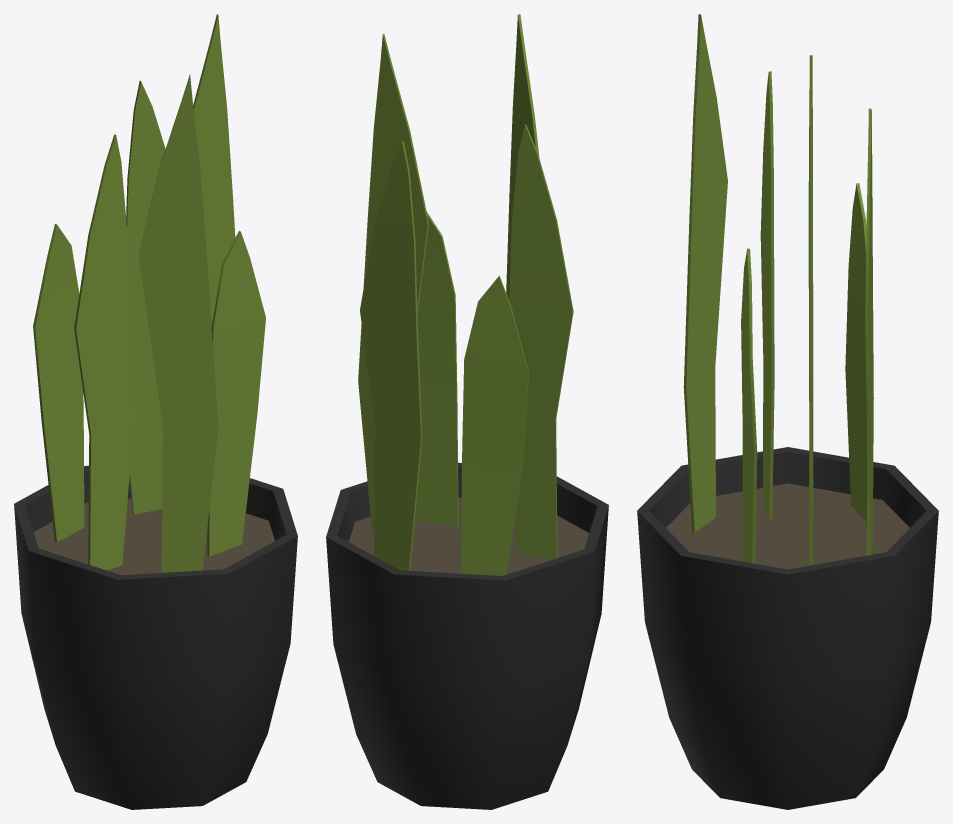
File: Houseplant_4.glb
3 renders of one model, left to right at view 1: azimuth 30°, elevation 25°; view 2: azimuth 150°, elevation 25°; view 3: azimuth 270°, elevation 25°, orthographic. The views are drawn at different scales.
Visible parts, largest first — view 1: Houseplant_4_Cylinder.011; view 2: Houseplant_4_Cylinder.011; view 3: Houseplant_4_Cylinder.011.
Boxes of the visible parts, x1,y1,x2,y2 form: Houseplant_4_Cylinder.011: (14, 14, 297, 809); Houseplant_4_Cylinder.011: (326, 14, 608, 809); Houseplant_4_Cylinder.011: (637, 14, 938, 809).
Bounding box in the file's own units: 0.3382 × 0.9284 × 0.3382.
